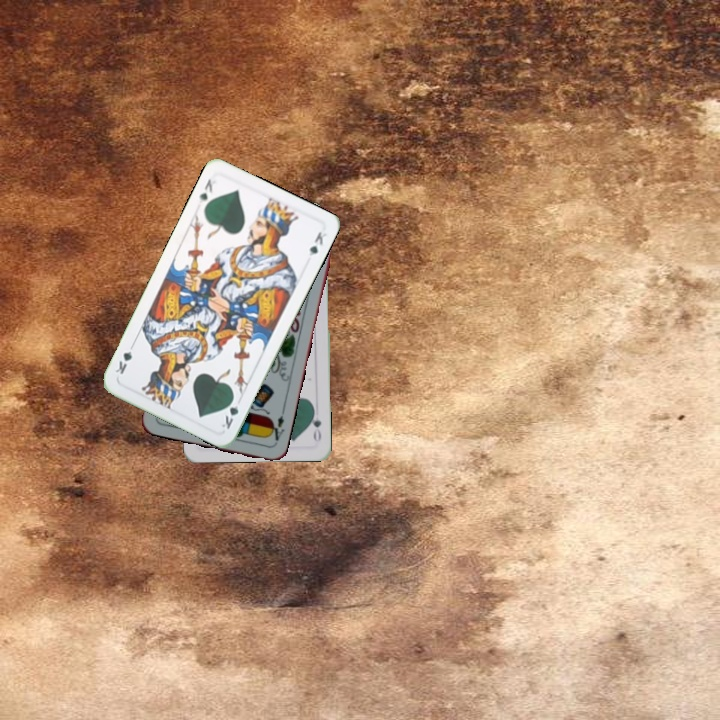EA: (265, 406, 288, 446)
GK: (217, 392, 241, 432), (195, 175, 219, 206)
GO: (307, 404, 324, 445)
